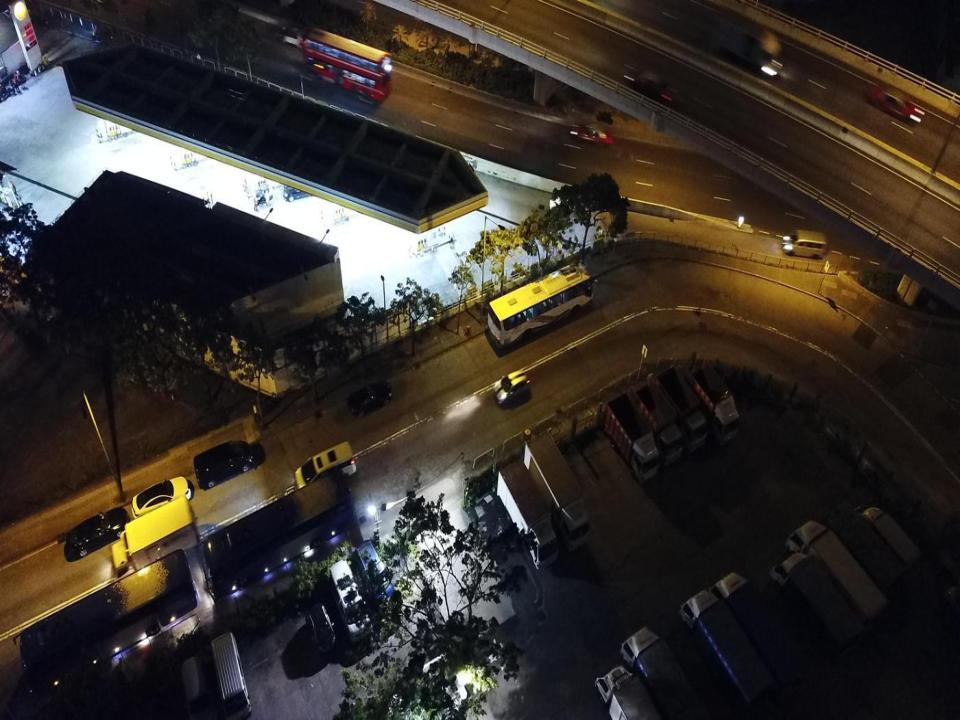bus: (15, 548, 200, 703), (202, 469, 359, 602), (486, 260, 594, 347), (301, 28, 392, 100)
car: (66, 506, 130, 559), (132, 477, 192, 520), (870, 83, 922, 123), (347, 380, 393, 418), (626, 68, 674, 103), (308, 600, 336, 655), (283, 169, 328, 201), (494, 370, 530, 405), (571, 122, 614, 146), (277, 26, 311, 50)
truck: (709, 571, 804, 696), (786, 521, 889, 635), (680, 588, 774, 712), (771, 550, 865, 657), (620, 627, 715, 719), (826, 502, 905, 606), (524, 428, 590, 552), (112, 495, 200, 587), (496, 458, 559, 570), (606, 390, 660, 482), (861, 505, 922, 586), (685, 358, 739, 445), (633, 374, 682, 468), (716, 5, 781, 74), (657, 366, 708, 450), (596, 664, 666, 719)
van: (330, 558, 374, 644), (210, 632, 252, 719), (355, 541, 399, 619), (194, 440, 259, 489), (296, 441, 357, 492), (180, 655, 219, 719), (784, 230, 827, 258)
